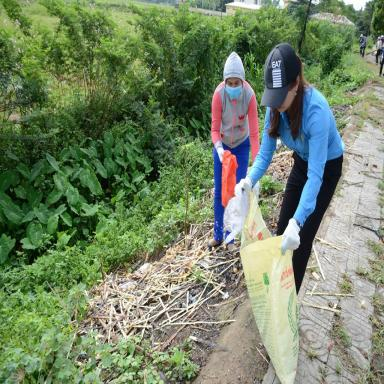plasticbag: (232, 196, 306, 383), (213, 177, 257, 242)
